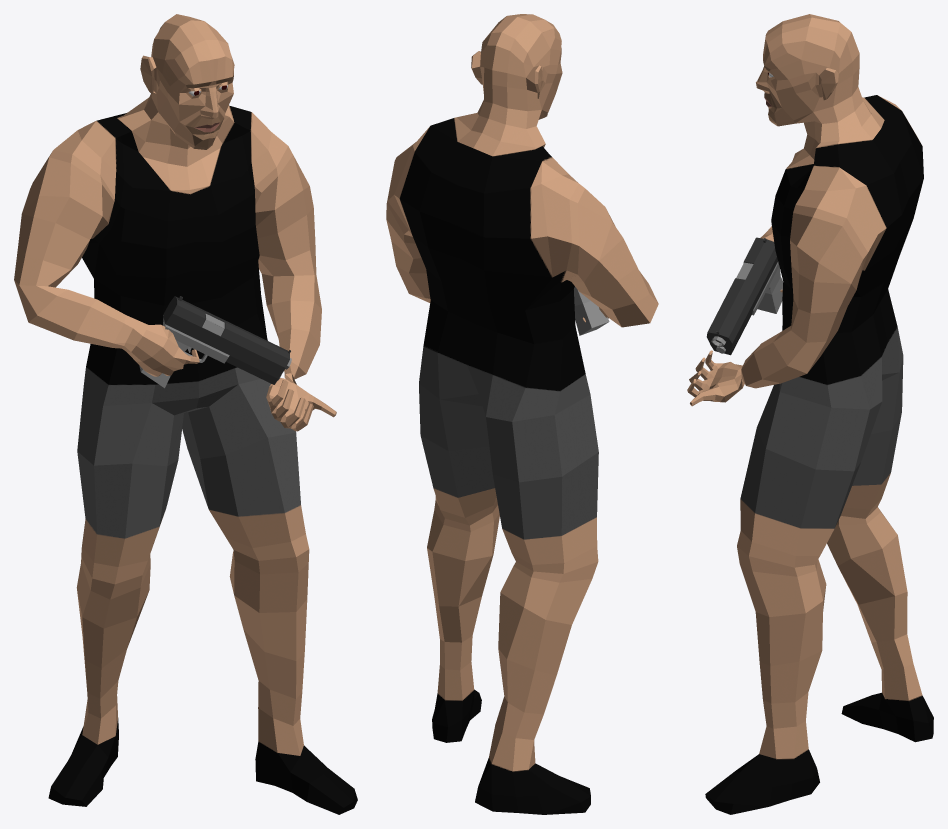
File: PlayerIdle(220).obj
3 renders of one model, left to right at view 1: azimuth 30°, elevation 25°; view 2: azimuth 150°, elevation 25°; view 3: azimuth 270°, elevation 25°, orthographic. The views are drawn at different scales.
Parts seen in each view (by area): view 1: Plane002, Box003; view 2: Plane002, Box003; view 3: Plane002, Box003.
Boxes of the visible parts, box(x1,y1,x2,y2) form: Plane002: box(14, 14, 357, 814); Box003: box(139, 296, 291, 388); Plane002: box(386, 14, 658, 814); Box003: box(574, 286, 609, 335); Plane002: box(687, 14, 933, 814); Box003: box(706, 237, 783, 355).
Bounding box in the file's own units: 676 × 1801 × 544.
